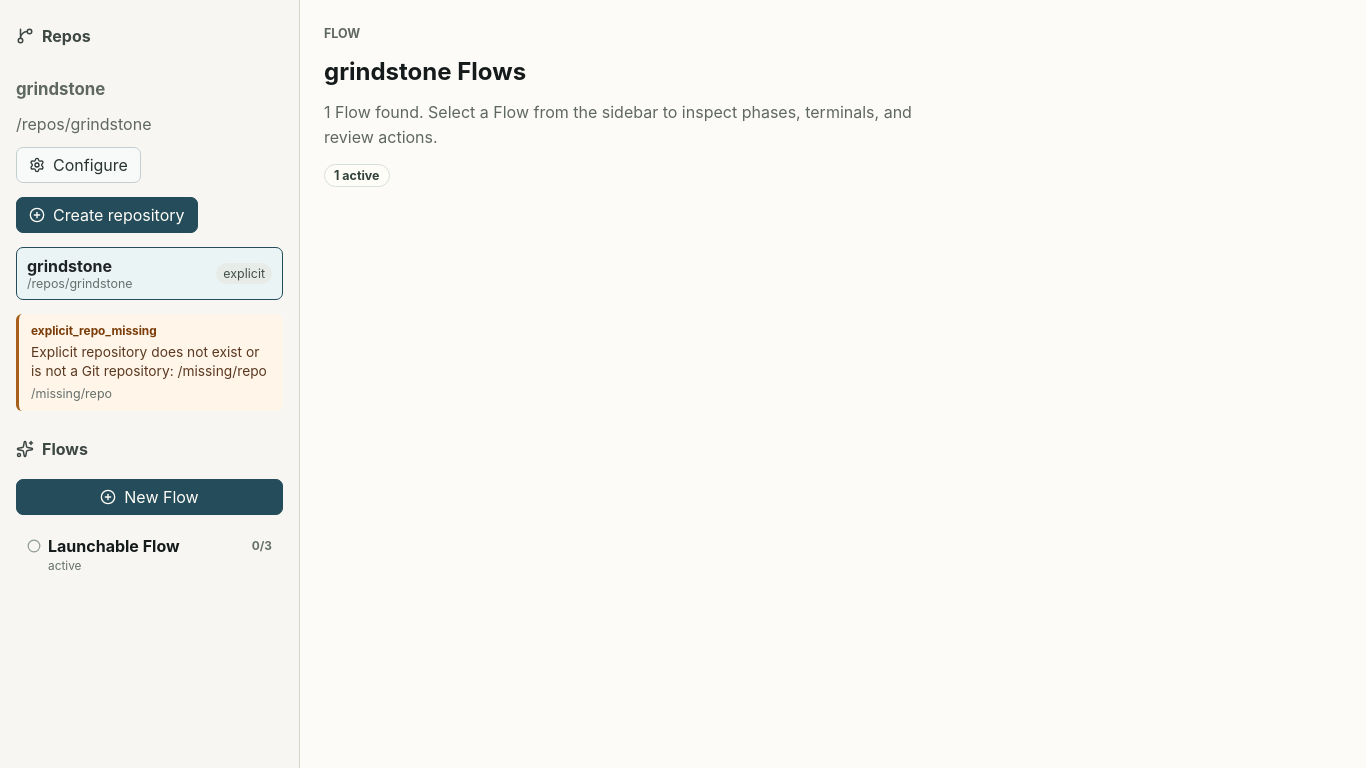
Test case: App shell › launches parent and child implementation phases from the phase tree
This screenshot has width=1366, height=768.
Click the button "Launchable Flow 0/3 active" at (150, 555), box [16,527,283,582]
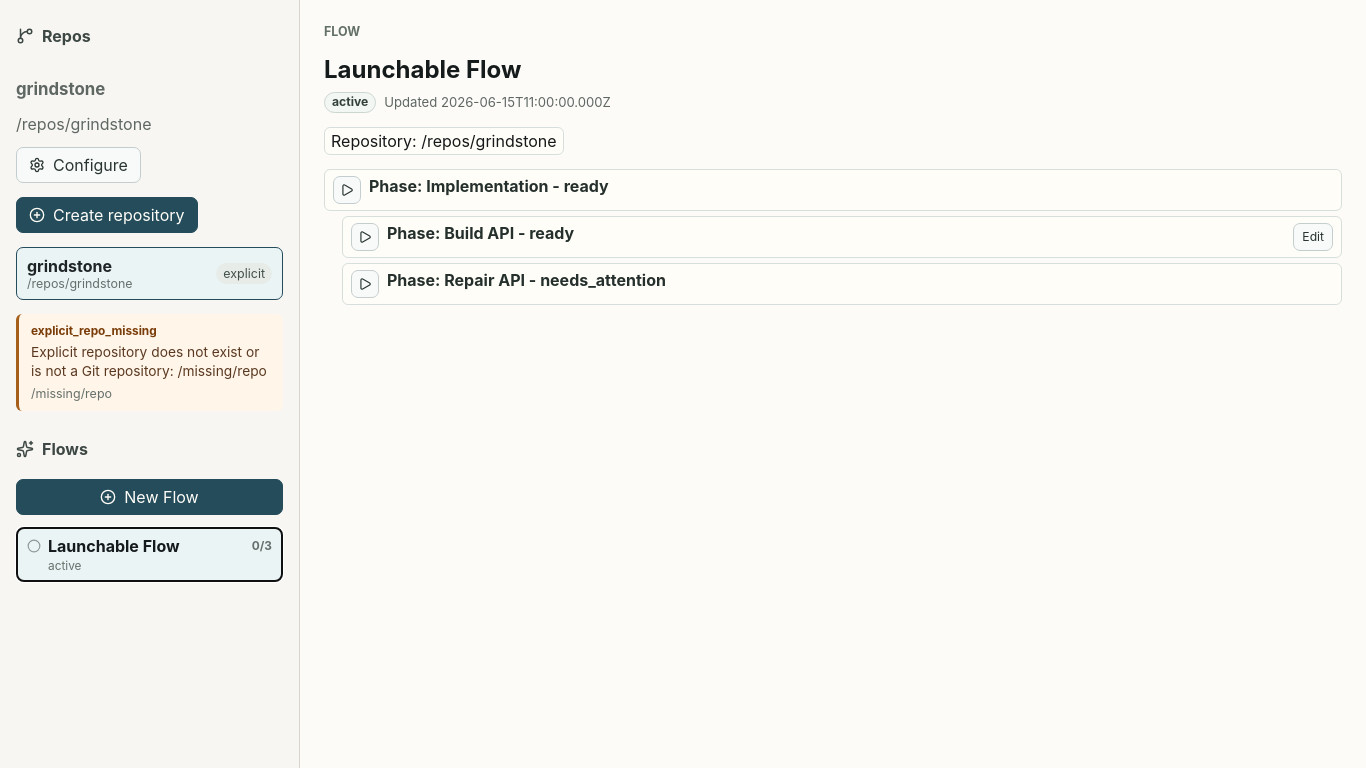
Check: the button named "launch repair api" is shown, box [351,270,379,298]
Click the button named "launch implementation" at (347, 190), box [333,176,361,204]
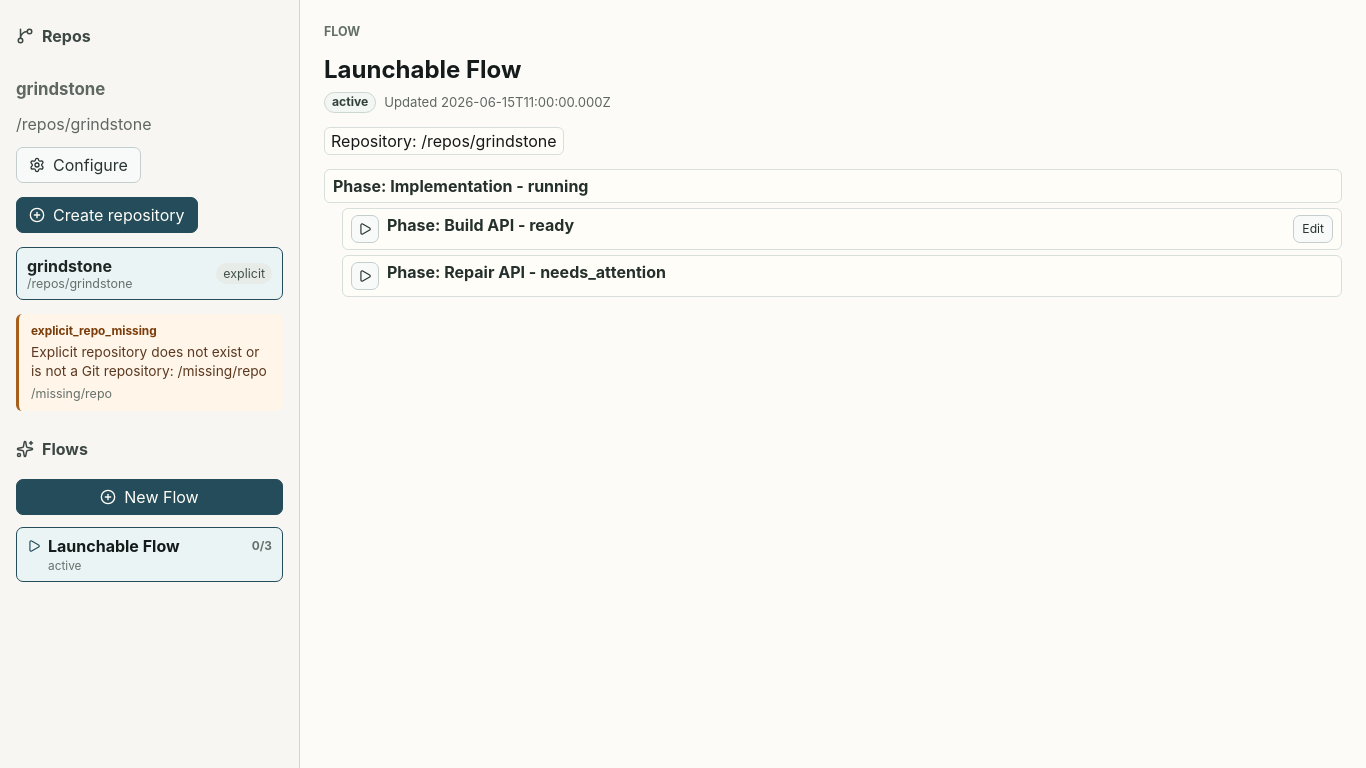
Check: the text "Phase: Implementation - running" is shown, box [333,176,588,196]
Click the button named "launch build api" at (365, 229), box [351,215,379,243]
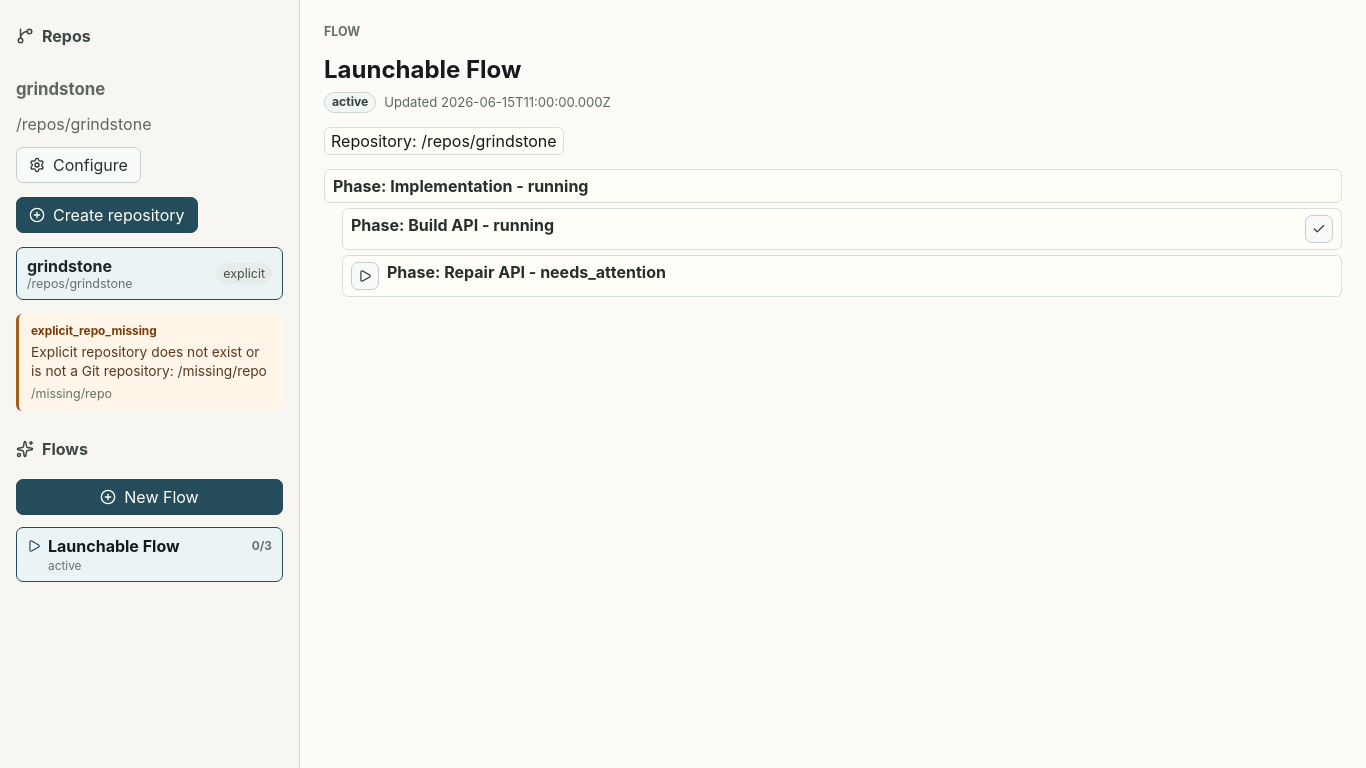
Check: the text "Phase: Build API - running" is shown, box [351,215,554,235]
